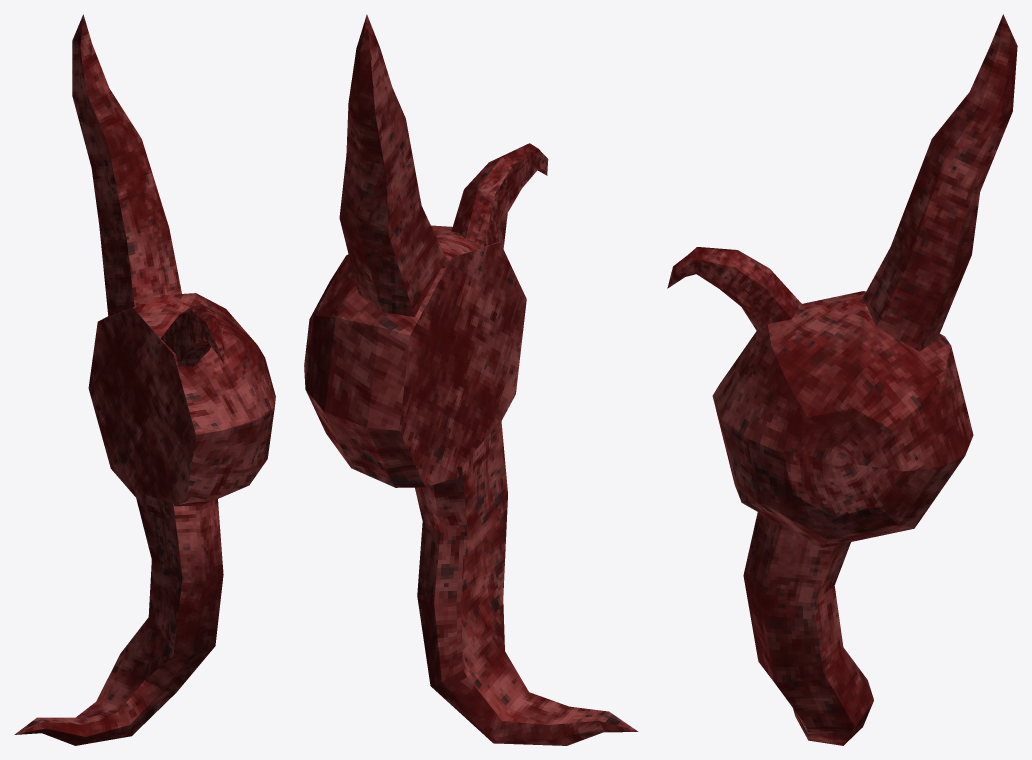
The model's file is pustule_grp_4.fbx.
3 views of the same model, side by side, from view 1: azimuth 30°, elevation 25°; view 2: azimuth 150°, elevation 25°; view 3: azimuth 270°, elevation 25° (orthographic). The views are drawn at different scales.
Parts seen in each view (by area): view 1: bubble_13, root_9, root_10, root_11; view 2: bubble_13, root_9, root_10, root_11; view 3: bubble_13, root_10, root_9, root_11.
Part boxes in pixels (x1=…): bubble_13: x1=88, y1=293, x2=275, y2=506; root_9: x1=14, y1=490, x2=223, y2=745; root_10: x1=72, y1=14, x2=181, y2=316; root_11: x1=160, y1=303, x2=224, y2=367; bubble_13: x1=304, y1=225, x2=526, y2=487; root_9: x1=415, y1=419, x2=638, y2=745; root_10: x1=339, y1=14, x2=446, y2=317; root_11: x1=451, y1=143, x2=548, y2=248; bubble_13: x1=712, y1=291, x2=973, y2=547; root_10: x1=862, y1=14, x2=1017, y2=351; root_9: x1=743, y1=512, x2=873, y2=745; root_11: x1=667, y1=247, x2=804, y2=330.
Size of the model in its own units: 4.39 by 11.19 by 4.72.
